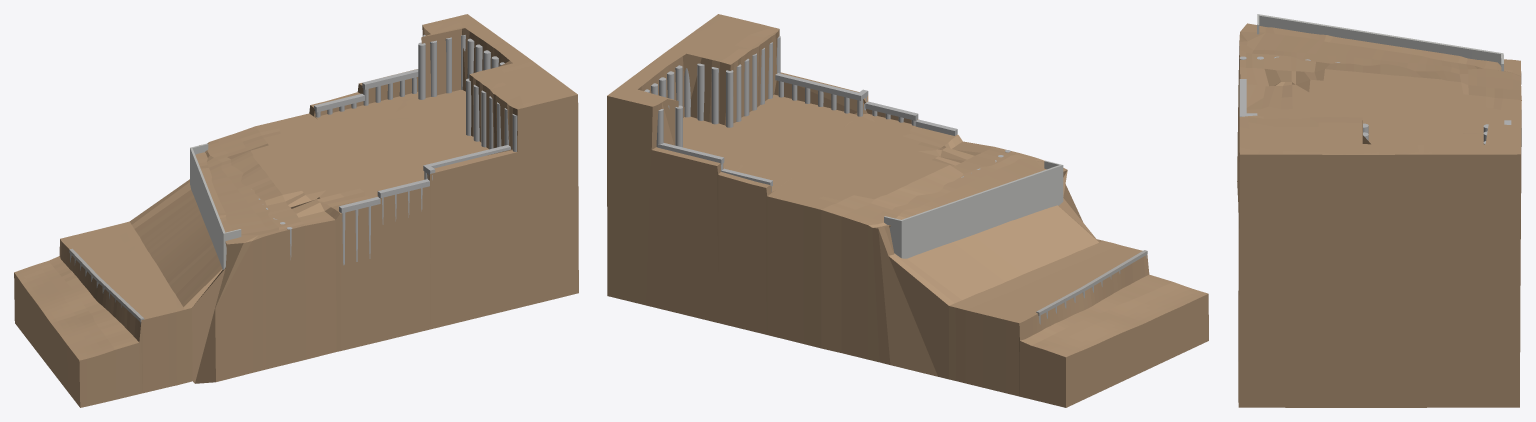
File: cb2_spw4.glb
3 renders of one model, left to right at view 1: azimuth 30°, elevation 25°; view 2: azimuth 150°, elevation 25°; view 3: azimuth 270°, elevation 25°, orthographic. The views are drawn at different scales.
Visible parts, largest first — view 1: Terrain 07 - SPW2+3.003, Retaining wall.001, CB1-RL9.011, Cube.145; view 2: Terrain 07 - SPW2+3.003, Retaining wall.001, CB1-RL9.011, Cube.145; view 3: Terrain 07 - SPW2+3.003, Retaining wall.001.
Part boxes in pixels (x1=…): Terrain 07 - SPW2+3.003: x1=14, y1=14, x2=578, y2=407; Retaining wall.001: x1=190, y1=143, x2=241, y2=269; CB1-RL9.011: x1=423, y1=145, x2=510, y2=175; Cube.145: x1=69, y1=248, x2=144, y2=321; Terrain 07 - SPW2+3.003: x1=607, y1=14, x2=1208, y2=407; Retaining wall.001: x1=884, y1=160, x2=1063, y2=258; CB1-RL9.011: x1=775, y1=73, x2=868, y2=100; Cube.145: x1=1036, y1=250, x2=1147, y2=315; Terrain 07 - SPW2+3.003: x1=1237, y1=23, x2=1521, y2=407; Retaining wall.001: x1=1257, y1=14, x2=1503, y2=71.
Size of the model in its own units: 45.82 by 17.65 by 17.99.
